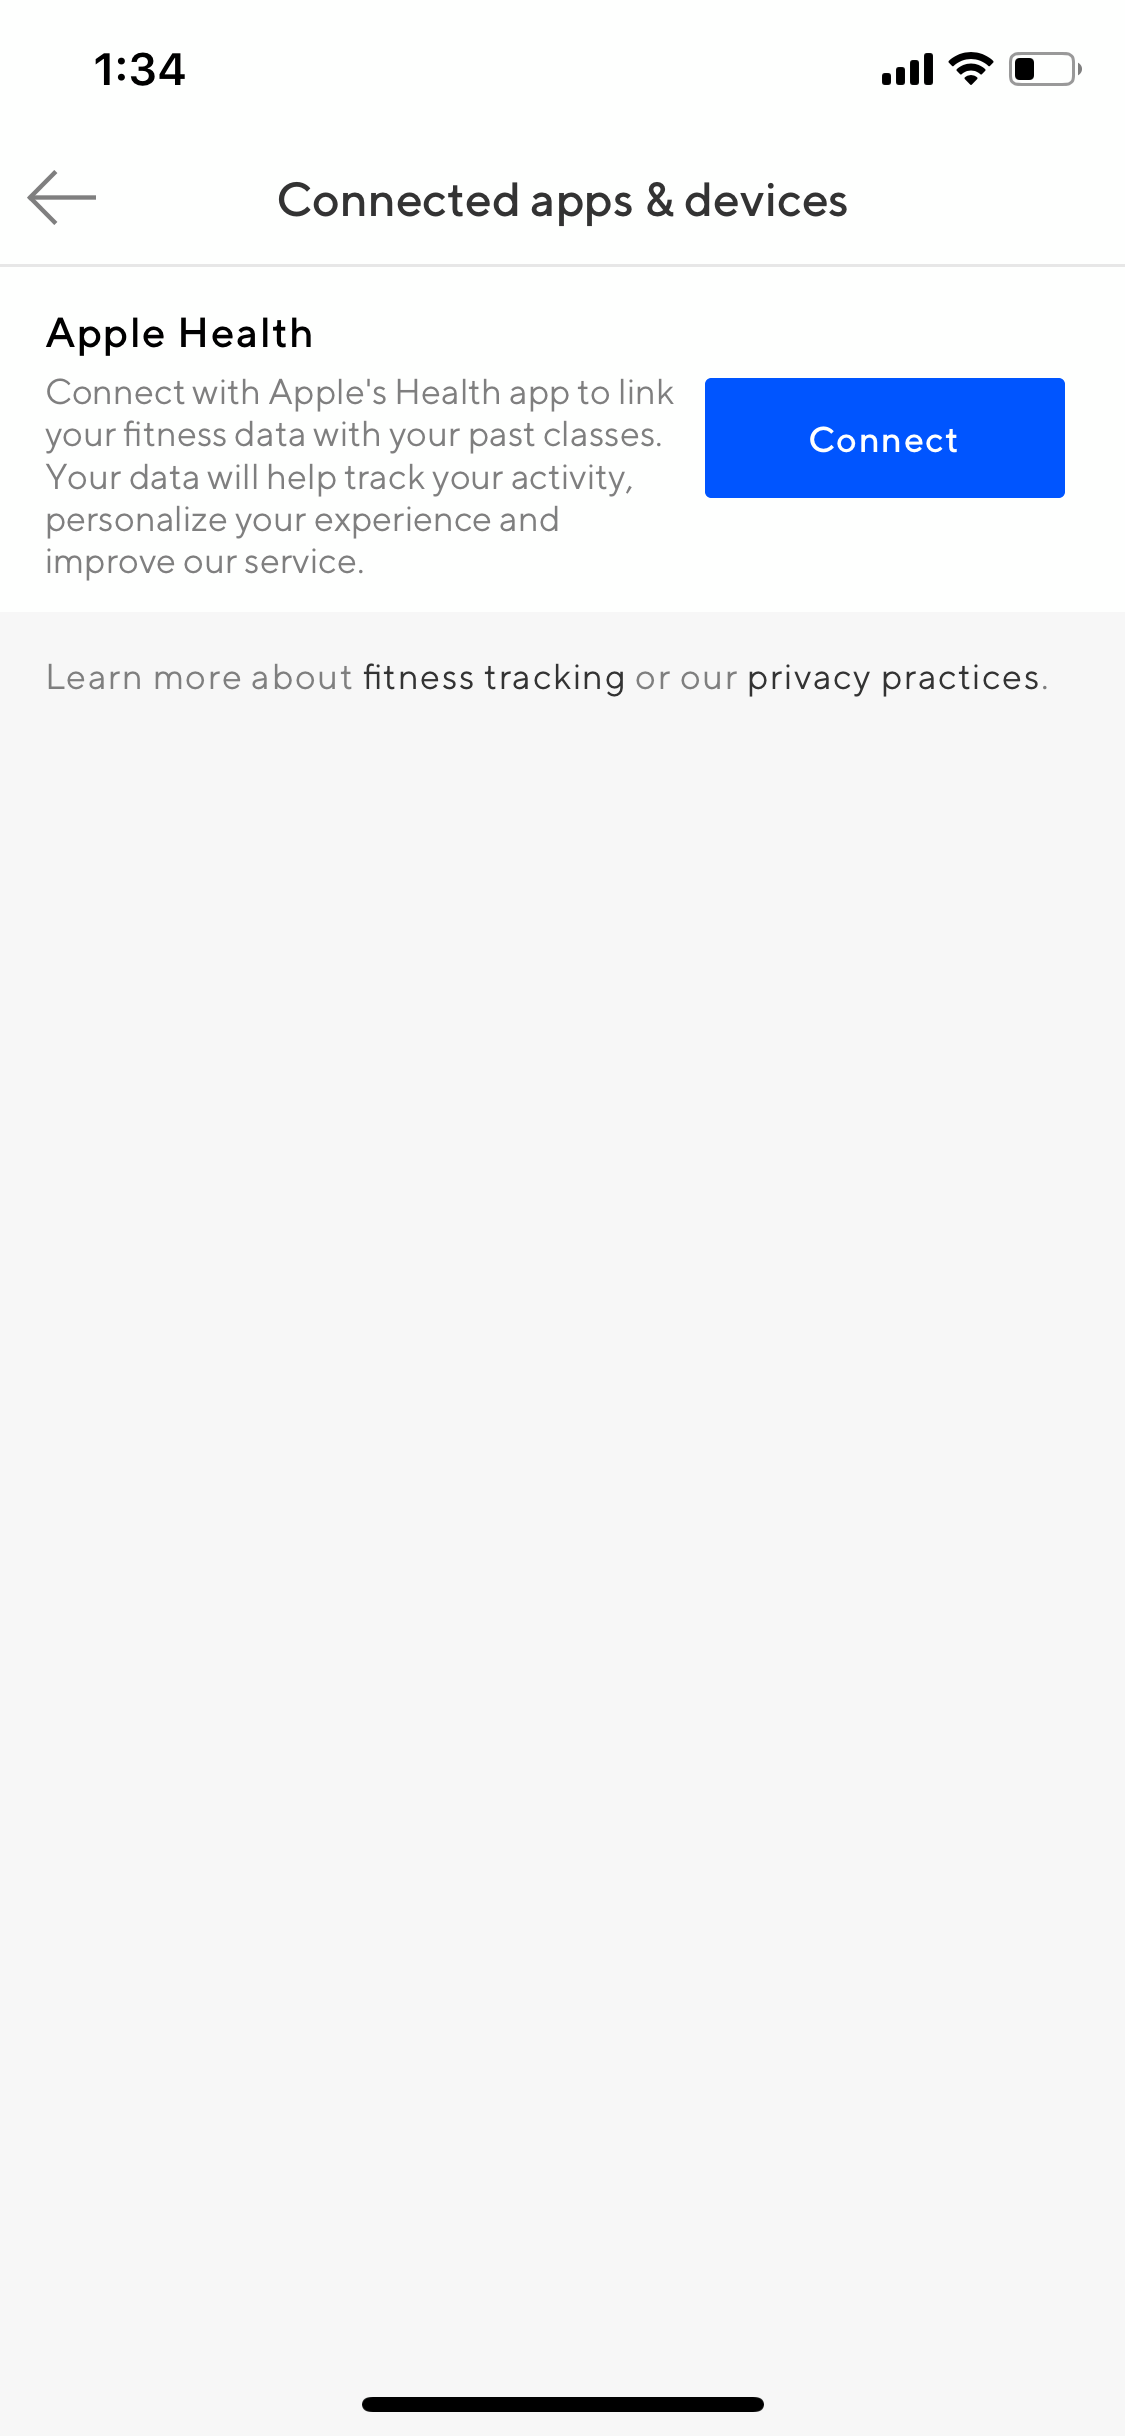Buttons: (681, 360, 1088, 524), (2, 134, 124, 253)
